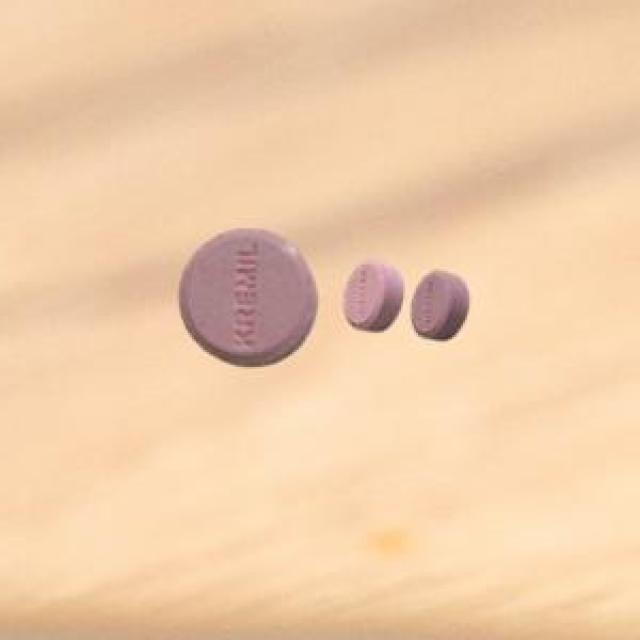Kremil_S: (168, 212, 325, 373), (339, 256, 410, 342), (414, 266, 477, 344)
